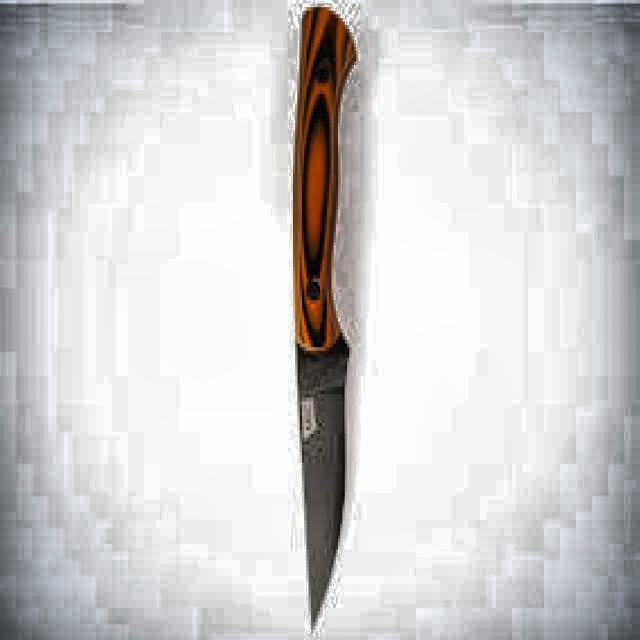knife: (290, 0, 362, 640)
